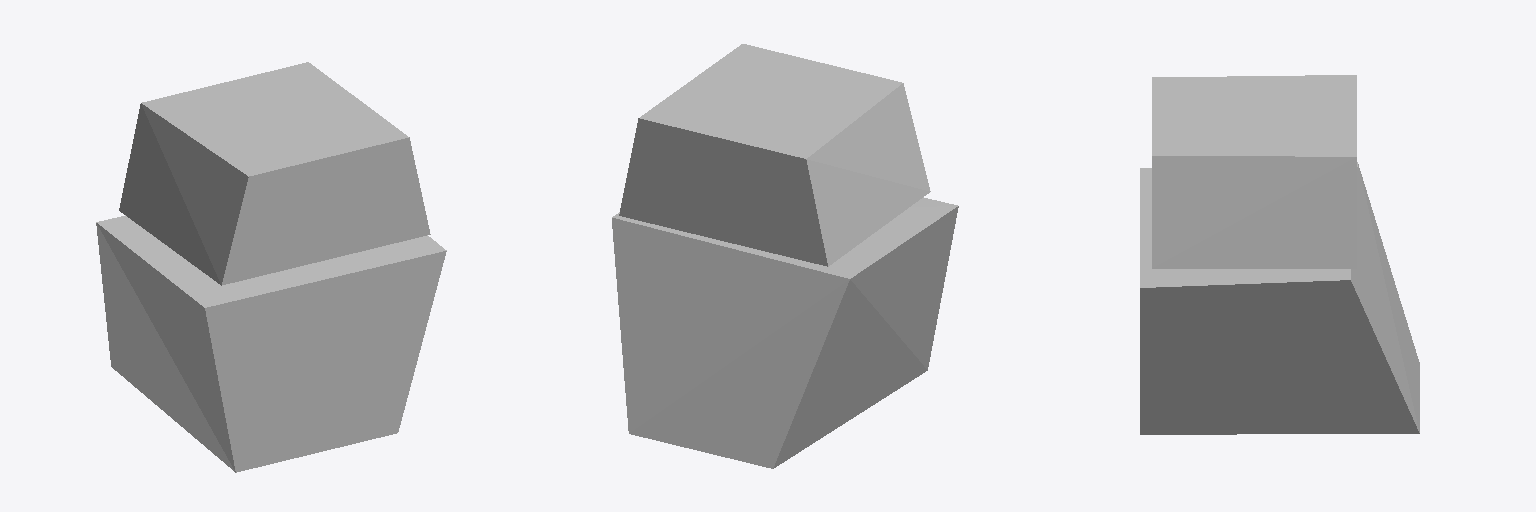
File: head.obj
3 renders of one model, left to right at view 1: azimuth 30°, elevation 25°; view 2: azimuth 150°, elevation 25°; view 3: azimuth 270°, elevation 25°, orthographic.
Visible parts, largest first — view 1: Cube.003_Cube.005; view 2: Cube.003_Cube.005; view 3: Cube.003_Cube.005.
Part boxes in pixels (x1,y1,x2,y2): Cube.003_Cube.005: (96,62,446,472); Cube.003_Cube.005: (612,44,958,468); Cube.003_Cube.005: (1140,75,1419,434).
Size of the model in its own units: 2 by 2.27 by 2.